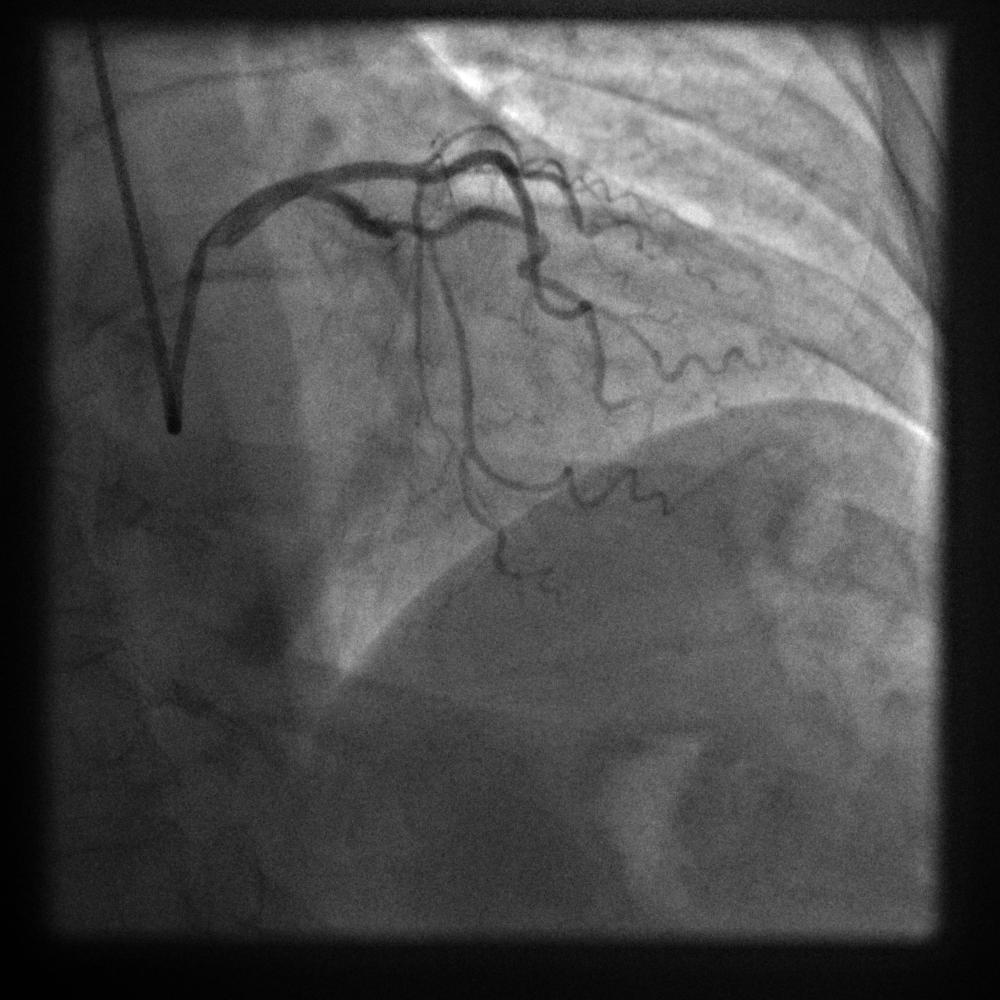Stenosis: (345, 206, 437, 248)
